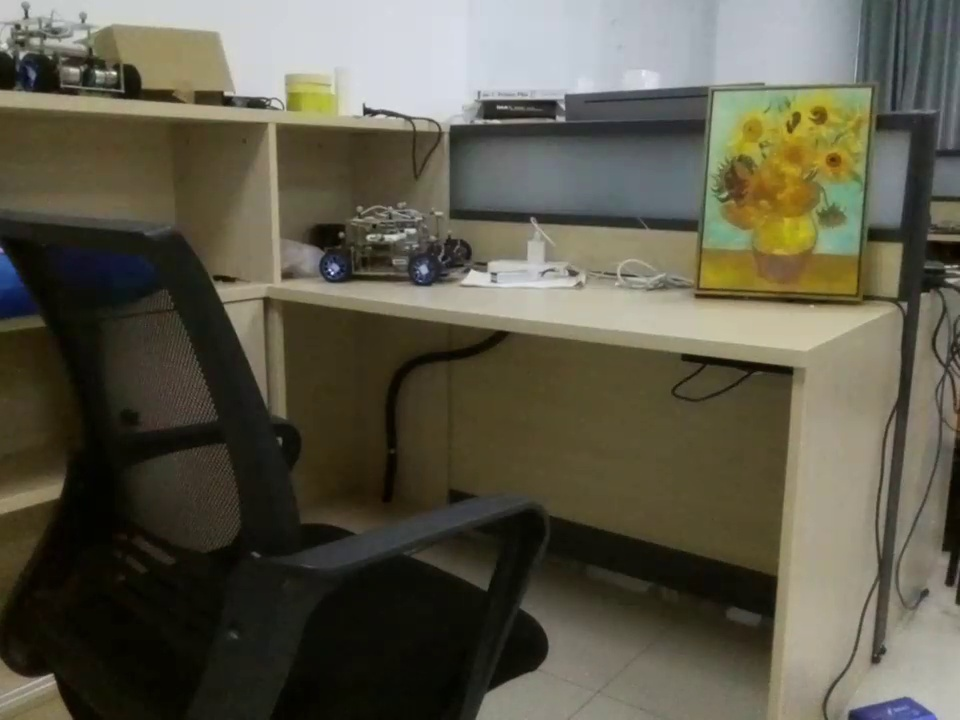painting: (696, 83, 876, 307)
